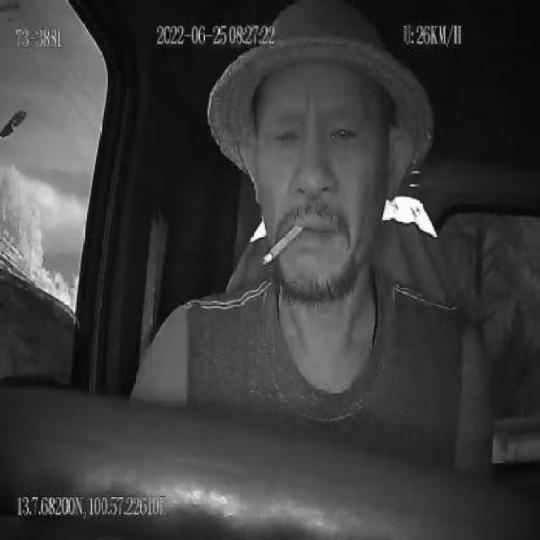smoking: (260, 222, 304, 267)
